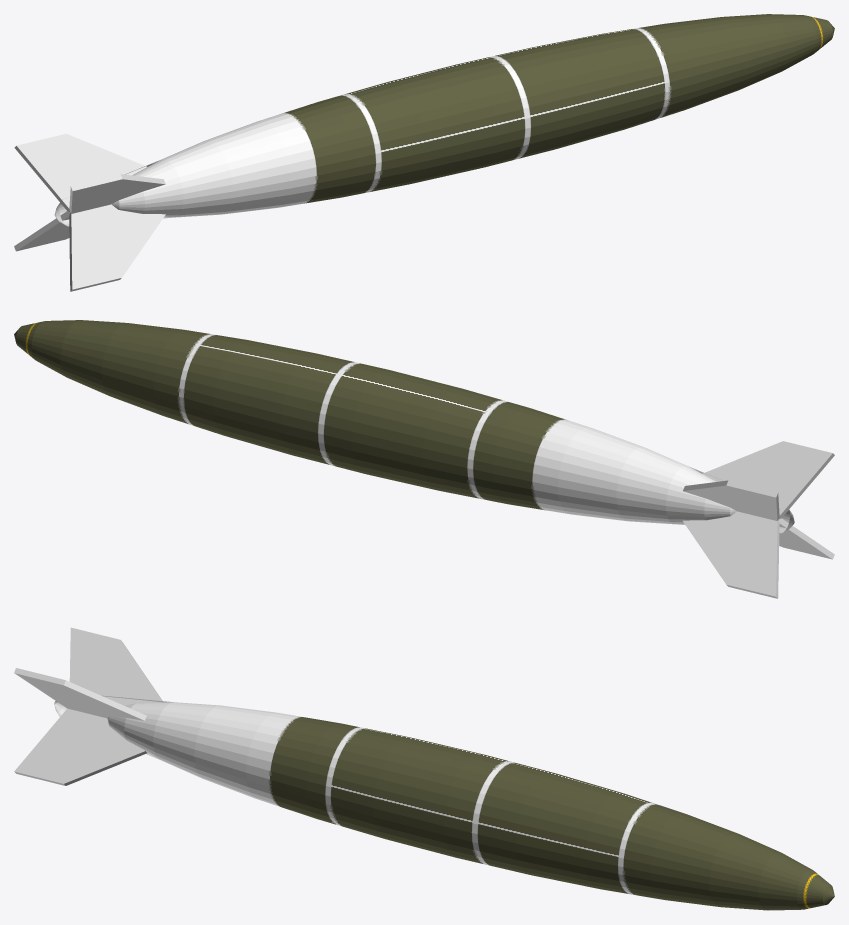
Rendered from gbu31fa18e3.glb.
3 views of the same model, one above another, from view 1: azimuth 30°, elevation 25°; view 2: azimuth 150°, elevation 25°; view 3: azimuth 330°, elevation 25° (orthographic).
Visible parts, largest first — view 1: 球.001; view 2: 球.001; view 3: 球.001.
Boxes of the visible parts, x1,y1,x2,y2 form: 球.001: (14, 14, 834, 291); 球.001: (14, 320, 834, 598); 球.001: (14, 627, 834, 910).
Bounding box in the file's own units: 3.97 × 0.5109 × 0.5109.
Materials: 1 (1 with a texture image).
